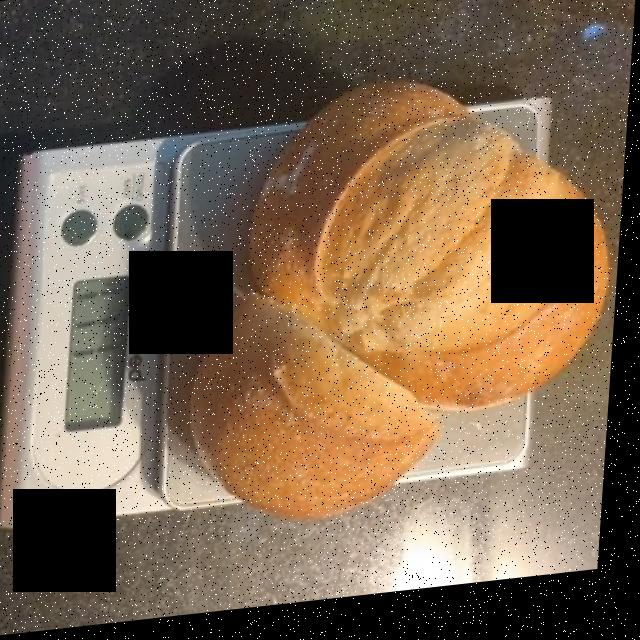bread-white: (150, 79, 617, 541)
